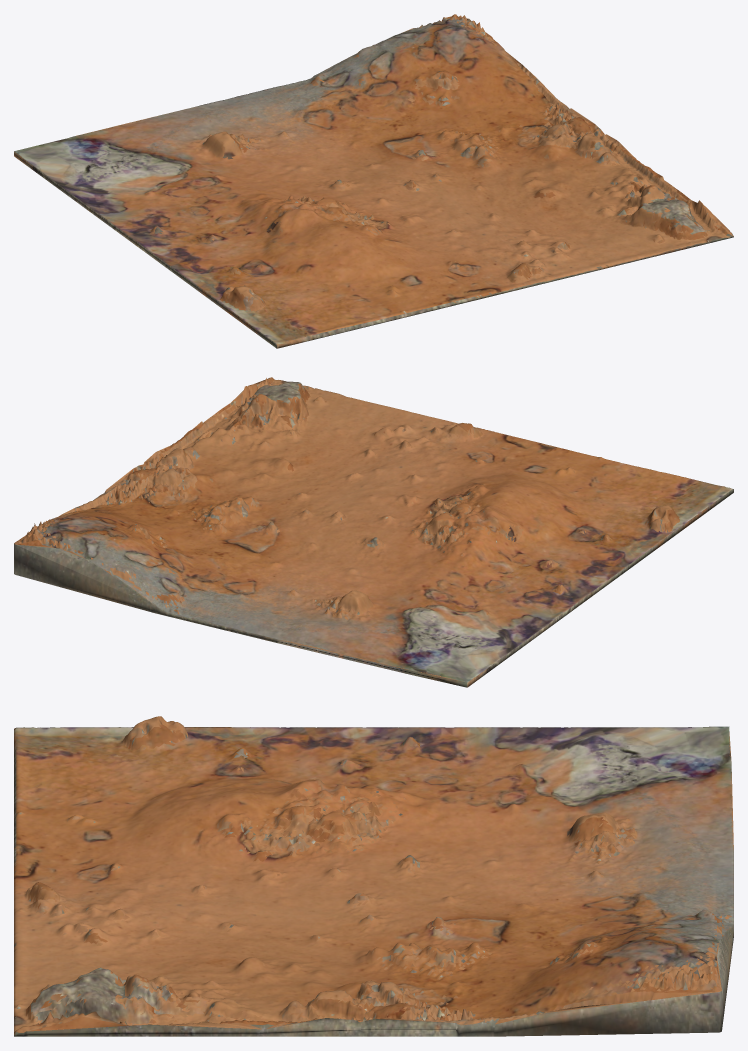
The model's file is mars_yard.dae.
3 views of the same model, one above another, from view 1: azimuth 30°, elevation 25°; view 2: azimuth 150°, elevation 25°; view 3: azimuth 270°, elevation 25° (orthographic). The views are drawn at different scales.
Parts seen in each view (by area): view 1: DEMViewNoWallsNoTall; view 2: DEMViewNoWallsNoTall; view 3: DEMViewNoWallsNoTall.
Part boxes in pixels (left/top/right/bottom): DEMViewNoWallsNoTall: left=14, top=14, right=733, bottom=348; DEMViewNoWallsNoTall: left=14, top=377, right=733, bottom=687; DEMViewNoWallsNoTall: left=14, top=716, right=733, bottom=1036.
Size of the model in its own units: 8.91 by 8.94 by 0.7714.
1 material, 1 textured.
